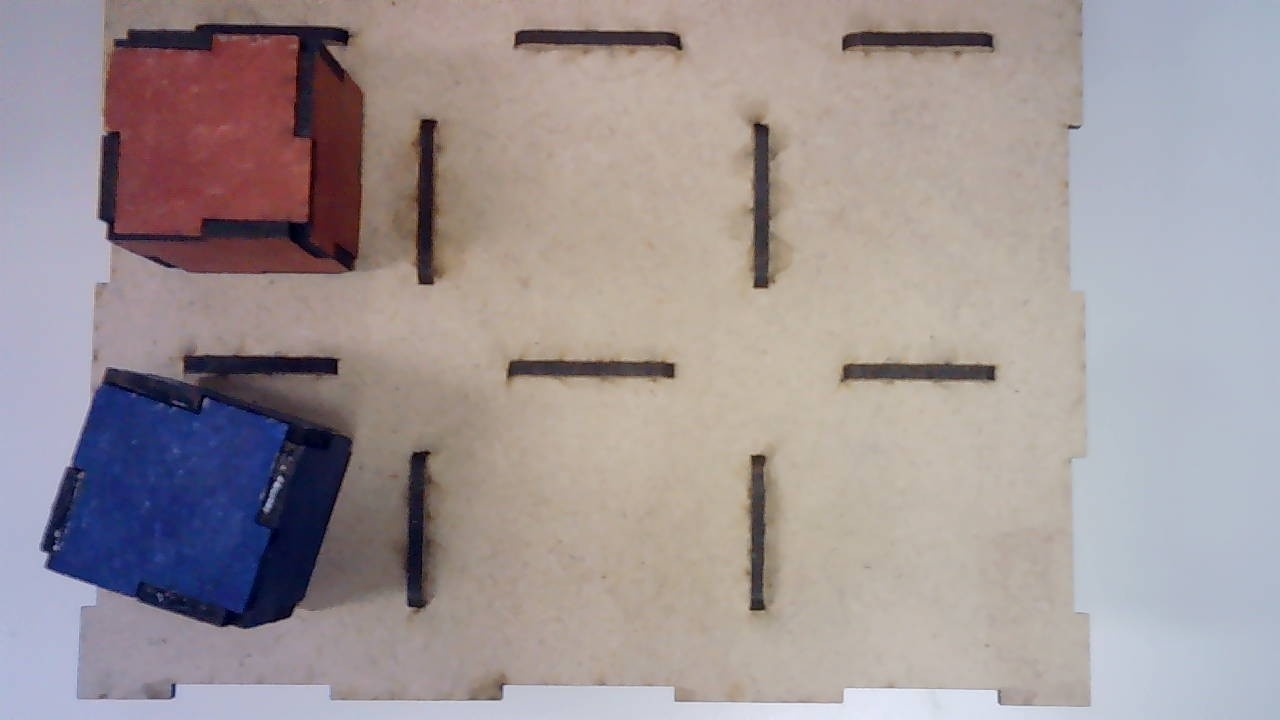blue box: (41, 368, 356, 632)
red box: (94, 28, 361, 280)
